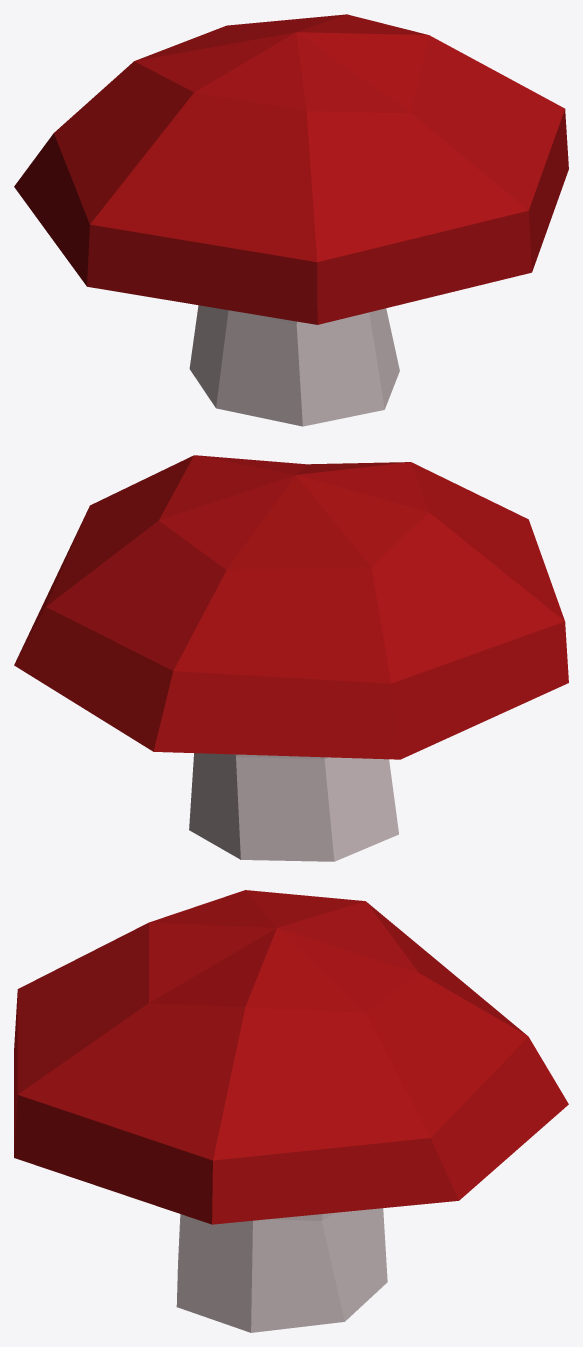
File: medium-mushroom.fbx
The picture shows the model from 3 angles, top to bottom: view 1: azimuth 30°, elevation 25°; view 2: azimuth 150°, elevation 25°; view 3: azimuth 270°, elevation 25°; orthographic projection. The views are drawn at different scales.
Parts seen in each view (by area): view 1: MediumMushroom; view 2: MediumMushroom; view 3: MediumMushroom.
Part boxes in pixels (x1,y1,x2,y2): MediumMushroom: (14, 14, 568, 426); MediumMushroom: (14, 455, 568, 861); MediumMushroom: (14, 890, 568, 1332).
Size of the model in its own units: 0.1999 by 0.1393 by 0.1949.
